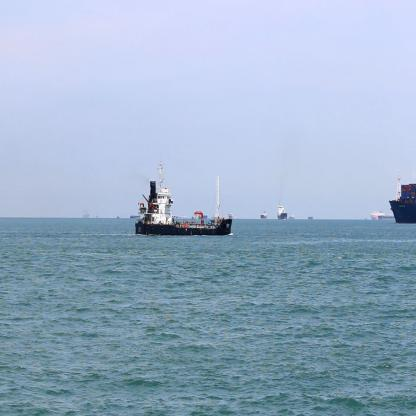Container Ship: (133, 157, 234, 239), (387, 173, 415, 229), (369, 208, 392, 222), (275, 202, 287, 222), (79, 210, 91, 222), (260, 208, 268, 224), (306, 212, 314, 223), (288, 213, 296, 224)
